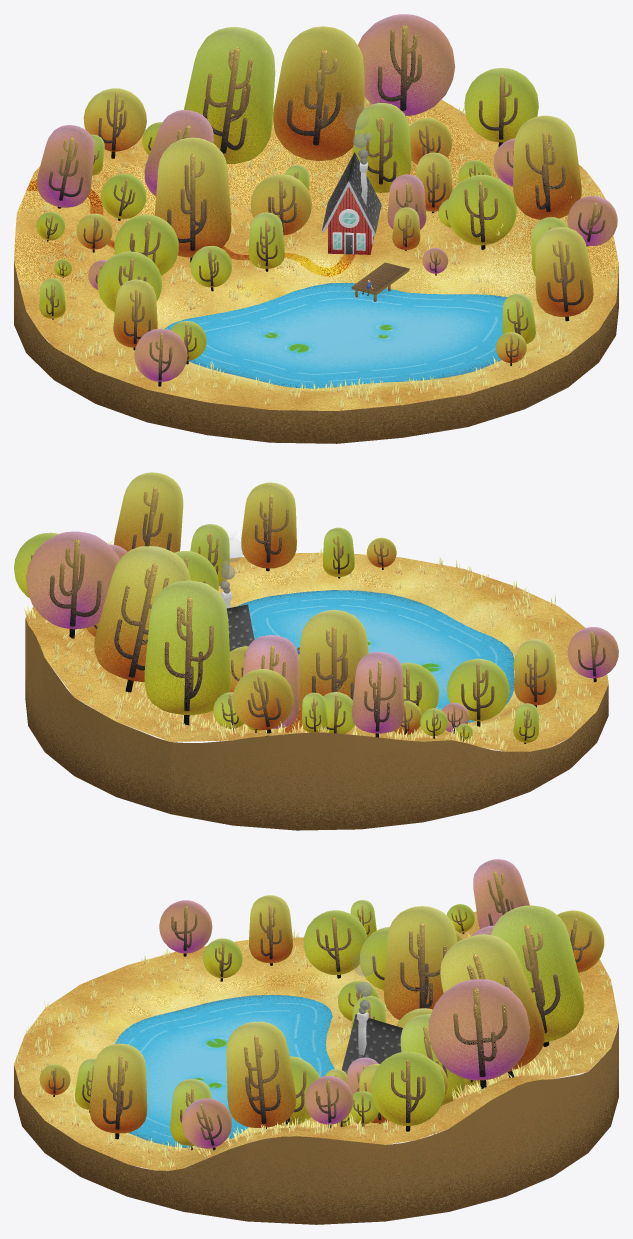
File: house-transformed.glb
3 views of the same model, one above another, from view 1: azimuth 30°, elevation 25°; view 2: azimuth 150°, elevation 25°; view 3: azimuth 270°, elevation 25° (orthographic). The views are drawn at different scales.
Parts seen in each view (by area): view 1: ground, CoronaScatter_converted_tree_027, CoronaScatter_converted_tree_018, CoronaScatter_converted_tree_017, tree_001, CoronaScatter_converted_grass_001, CoronaScatter_converted_tree_022, CoronaScatter_converted_tree_015, CoronaScatter_converted_tree_026, CoronaScatter_converted_tree_012, CoronaScatter_converted_tree_005, CoronaScatter_converted_tree_051 (+27 smaller); view 2: ground, CoronaScatter_converted_tree_018, CoronaScatter_converted_tree_027, CoronaScatter_converted_tree_017, CoronaScatter_converted_grass_001, tree_001, CoronaScatter_converted_tree_022, CoronaScatter_converted_tree_015, CoronaScatter_converted_tree_051, CoronaScatter_converted_tree_010, CoronaScatter_converted_tree_042, CoronaScatter_converted_tree_034 (+18 smaller); view 3: ground, CoronaScatter_converted_tree_017, CoronaScatter_converted_tree_018, CoronaScatter_converted_grass_001, CoronaScatter_converted_tree_022, tree_001, CoronaScatter_converted_tree_027, CoronaScatter_converted_tree_015, CoronaScatter_converted_tree_026, CoronaScatter_converted_tree_042, CoronaScatter_converted_tree_051, CoronaScatter_converted_tree_034 (+19 smaller).
Boxes of the visible parts, left/top/right/bottom form: ground: left=14, top=97, right=618, bottom=443; CoronaScatter_converted_tree_027: left=273, top=26, right=364, bottom=161; CoronaScatter_converted_tree_018: left=184, top=27, right=275, bottom=163; CoronaScatter_converted_tree_017: left=358, top=14, right=455, bottom=116; tree_001: left=154, top=137, right=231, bottom=262; CoronaScatter_converted_grass_001: left=21, top=97, right=614, bottom=409; CoronaScatter_converted_tree_022: left=513, top=115, right=581, bottom=219; CoronaScatter_converted_tree_015: left=535, top=227, right=593, bottom=321; CoronaScatter_converted_tree_026: left=464, top=68, right=538, bottom=146; CoronaScatter_converted_tree_012: left=446, top=175, right=516, bottom=249; CoronaScatter_converted_tree_005: left=352, top=103, right=411, bottom=192; CoronaScatter_converted_tree_051: left=37, top=125, right=94, bottom=208; ground: left=25, top=552, right=608, bottom=830; CoronaScatter_converted_tree_018: left=144, top=580, right=230, bottom=725; CoronaScatter_converted_tree_027: left=94, top=546, right=190, bottom=692; CoronaScatter_converted_tree_017: left=26, top=531, right=119, bottom=638; CoronaScatter_converted_grass_001: left=24, top=541, right=591, bottom=750; tree_001: left=299, top=610, right=368, bottom=710; CoronaScatter_converted_tree_022: left=114, top=472, right=183, bottom=552; CoronaScatter_converted_tree_015: left=241, top=482, right=296, bottom=571; CoronaScatter_converted_tree_051: left=352, top=651, right=404, bottom=737; CoronaScatter_converted_tree_010: left=232, top=669, right=293, bottom=733; CoronaScatter_converted_tree_042: left=447, top=658, right=509, bottom=726; CoronaScatter_converted_tree_034: left=514, top=639, right=556, bottom=707; ground: left=14, top=911, right=618, bottom=1224; CoronaScatter_converted_tree_017: left=428, top=979, right=529, bottom=1088; CoronaScatter_converted_tree_018: left=491, top=905, right=584, bottom=1046; CoronaScatter_converted_grass_001: left=15, top=929, right=611, bottom=1169; CoronaScatter_converted_tree_022: left=226, top=1021, right=296, bottom=1129; tree_001: left=384, top=906, right=456, bottom=1019; CoronaScatter_converted_tree_027: left=440, top=934, right=544, bottom=1077; CoronaScatter_converted_tree_015: left=89, top=1043, right=147, bottom=1139; CoronaScatter_converted_tree_026: left=371, top=1051, right=445, bottom=1131; CoronaScatter_converted_tree_042: left=303, top=910, right=367, bottom=978; CoronaScatter_converted_tree_051: left=473, top=859, right=529, bottom=928; CoronaScatter_converted_tree_034: left=249, top=895, right=292, bottom=965.
Bounding box in the file's own units: 64.1 × 23.52 × 64.
Materials: 18 (18 with a texture image).
